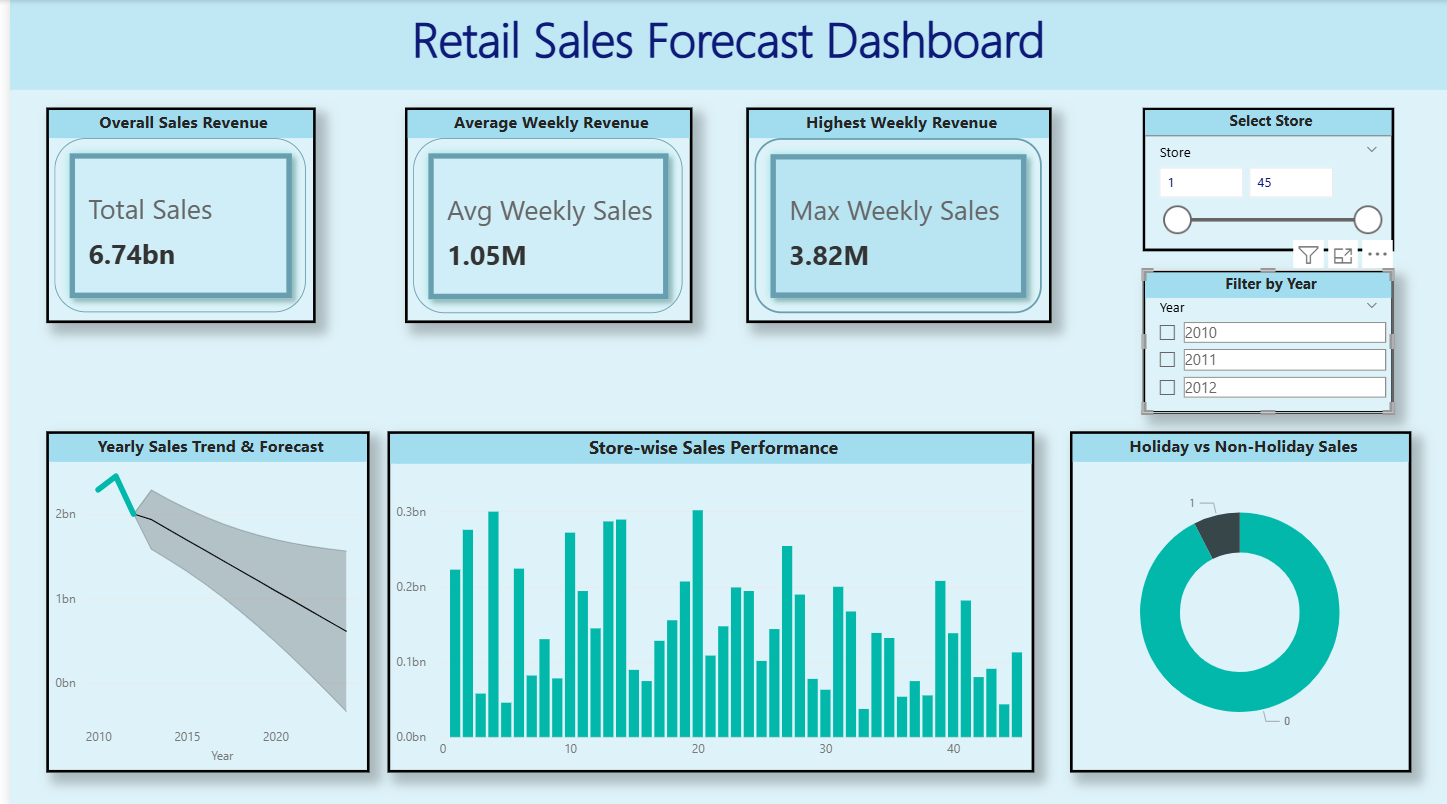

The dashboard page shown, as its layout file describes it:
{"tool":"powerbi","page":{"name":"Page 1","canvas":[1280,720],"ordinal":0},"visuals":[{"type":"cardVisual","title":"Overall Sales Revenue","fields":{"Data":["Sales.Total Sales"]},"box":[32,96,240,192],"z":0},{"type":"cardVisual","title":"Highest Weekly Revenue","fields":{"Data":["Sales.Max Weekly Sales"]},"box":[656,96,272,192],"z":1000},{"type":"cardVisual","title":"Average Weekly Revenue","fields":{"Data":["Sales.Avg Weekly Sales"]},"box":[352,96,256,192],"z":2000},{"type":"lineChart","title":"Yearly Sales Trend & Forecast","fields":{"Category":["Sales.Date.Variation.Date Hierarchy.Year","Sales.Date.Variation.Date Hierarchy.Quarter","Sales.Date.Variation.Date Hierarchy.Month","Sales.Date.Variation.Date Hierarchy.Day"],"Y":["Sum(Sales.Weekly_Sales)"]},"box":[32,384,288,304],"z":3000},{"type":"clusteredColumnChart","title":"Store-wise Sales Performance","fields":{"Category":["Sales.Store"],"Y":["Sum(Sales.Weekly_Sales)"]},"box":[336,384,576,304],"z":4000},{"type":"donutChart","title":"Holiday vs Non-Holiday Sales","fields":{"Y":["Sum(Sales.Weekly_Sales)"],"Category":["Sales.Holiday_Flag"]},"box":[944,384,304,304],"z":5000},{"type":"slicer","title":"Select Store","fields":{"Values":["Sales.Store"]},"box":[1008,96,224,128],"z":6000},{"type":"slicer","title":"Filter by Year","fields":{"Values":["Sales.Date.Variation.Date Hierarchy.Year"]},"box":[1008,240,224,128],"z":7000},{"type":"textbox","box":[0,0,1280,80],"z":8000}]}

Visuals, with their boxes in screenshot pixels (x1, y1, x2, y2), scaled from the page's 1280x720 canvas onto the 1447x804 screenshot:
"Overall Sales Revenue" cardVisual: locate(36, 107, 307, 322)
"Highest Weekly Revenue" cardVisual: locate(742, 107, 1049, 322)
"Average Weekly Revenue" cardVisual: locate(398, 107, 687, 322)
"Yearly Sales Trend & Forecast" lineChart: locate(36, 429, 362, 768)
"Store-wise Sales Performance" clusteredColumnChart: locate(380, 429, 1031, 768)
"Holiday vs Non-Holiday Sales" donutChart: locate(1067, 429, 1411, 768)
"Select Store" slicer: locate(1140, 107, 1393, 250)
"Filter by Year" slicer: locate(1140, 268, 1393, 411)
textbox: locate(0, 0, 1446, 89)
